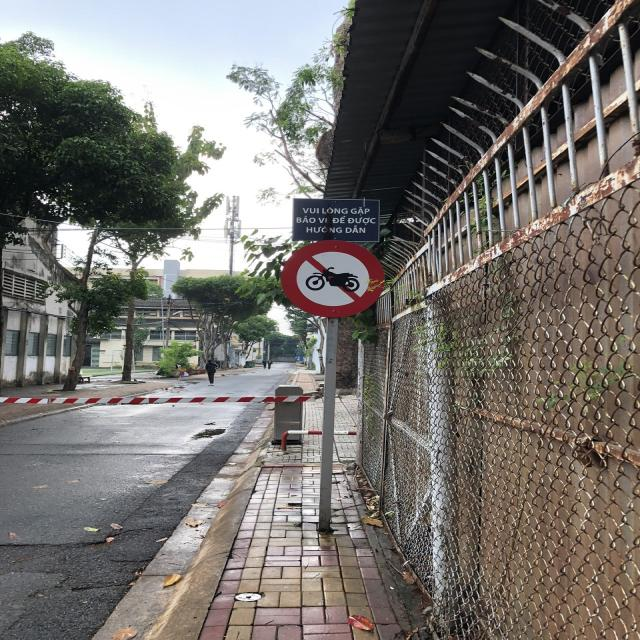Bien bao cam xe may: (277, 234, 386, 320)
